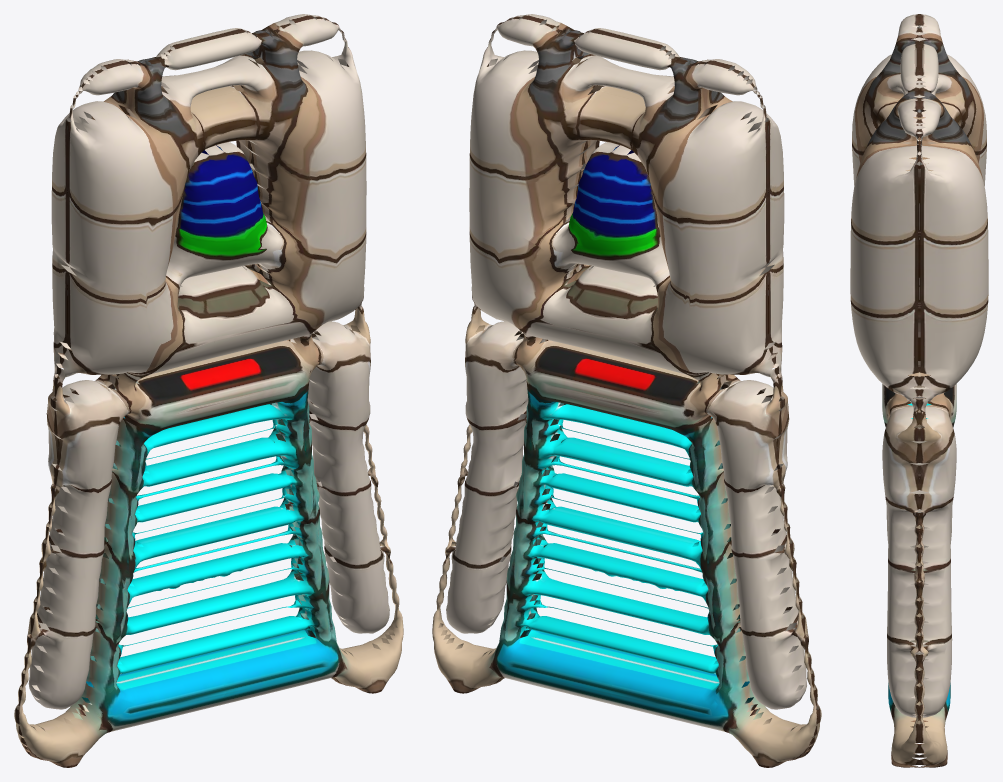
File: access_gate.glb
The picture shows the model from 3 angles, left to right: view 1: azimuth 30°, elevation 25°; view 2: azimuth 150°, elevation 25°; view 3: azimuth 270°, elevation 25°; orthographic projection. The views are drawn at different scales.
Visible parts, largest first — view 1: access_gate; view 2: access_gate; view 3: access_gate.
Boxes of the visible parts, bbox=[...] form: access_gate: bbox=[14, 14, 403, 767]; access_gate: bbox=[432, 14, 821, 767]; access_gate: bbox=[850, 14, 988, 767].
Bounding box in the file's own units: 0.9815 × 1.66 × 0.3289.
1 material, 1 textured.
